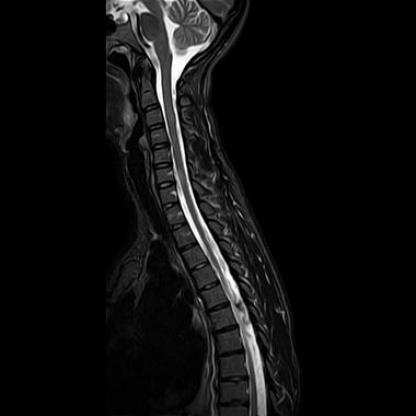Disc Bulgerotation: (151, 139, 170, 152)
